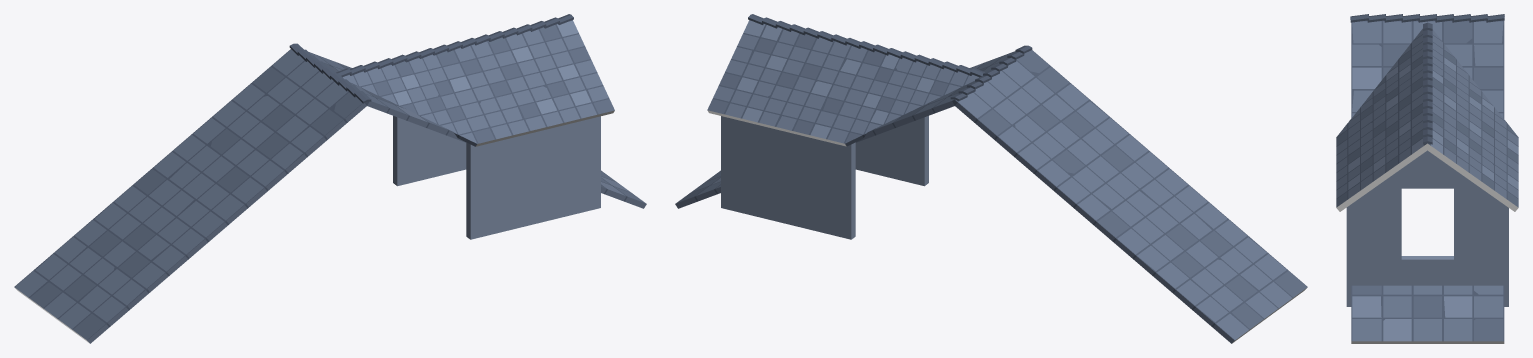
The model's file is Roof4_C7_06.fbx.
The picture shows the model from 3 angles, left to right: view 1: azimuth 30°, elevation 25°; view 2: azimuth 150°, elevation 25°; view 3: azimuth 270°, elevation 25°; orthographic projection. The views are drawn at different scales.
Visible parts, largest first — view 1: Roof4_C7_06; view 2: Roof4_C7_06; view 3: Roof4_C7_06.
Part boxes in pixels (box(x1,y1,x2,y2)): Roof4_C7_06: box(14, 14, 646, 343); Roof4_C7_06: box(675, 14, 1307, 343); Roof4_C7_06: box(1336, 14, 1518, 343).
Bounding box in the file's own units: 1105 × 338 × 298.
